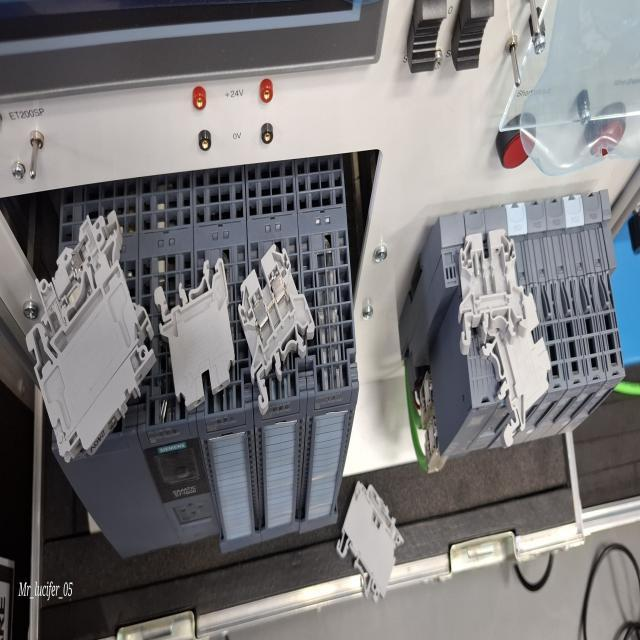Inverted: (147, 242, 243, 439), (479, 280, 554, 454)
Pass: (230, 226, 322, 427)
Reject: (453, 210, 533, 360)
